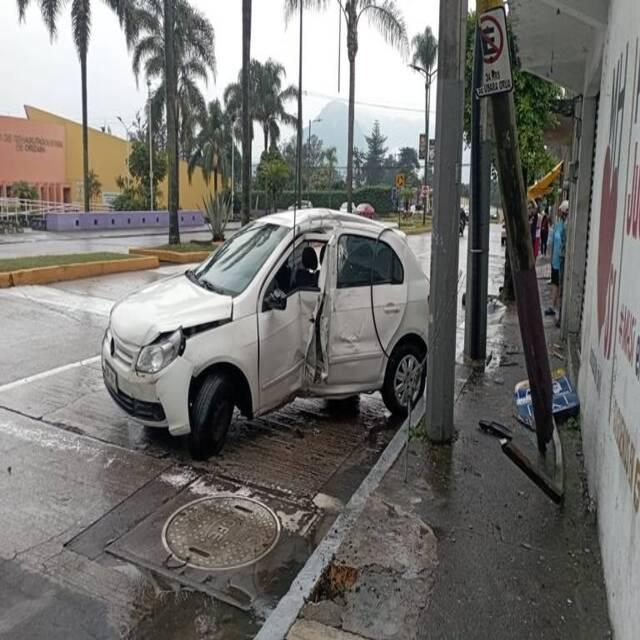Inclined Pole: (477, 0, 560, 447)
